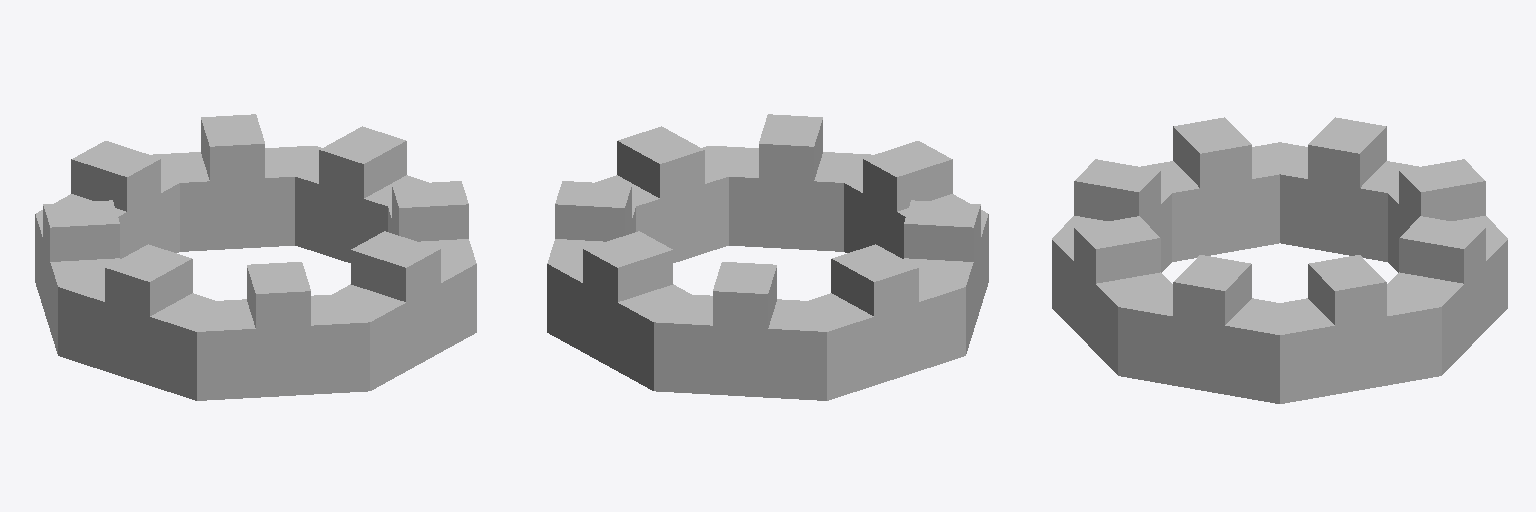
File: tower_top.obj
The picture shows the model from 3 angles: view 1: azimuth 30°, elevation 25°; view 2: azimuth 150°, elevation 25°; view 3: azimuth 270°, elevation 25°; orthographic projection.
Visible parts, largest first — view 1: tower_top; view 2: tower_top; view 3: tower_top.
Part boxes in pixels (x1,y1,x2,y2): tower_top: (35,114,476,400); tower_top: (547,114,988,400); tower_top: (1052,117,1507,403).
Size of the model in its own units: 1.2 by 0.3 by 1.2.